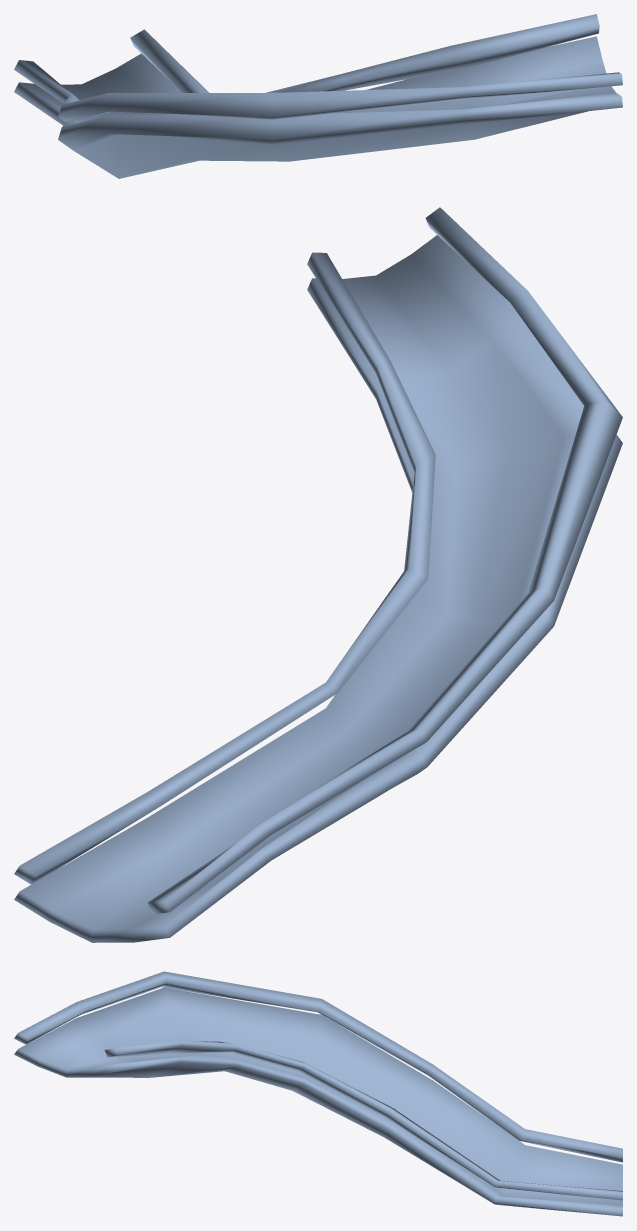
Rendered from junRoadShortSlope2p5_70.fbx.
3 renders of one model, top to bottom at view 1: azimuth 30°, elevation 25°; view 2: azimuth 150°, elevation 25°; view 3: azimuth 270°, elevation 25°, orthographic. The views are drawn at different scales.
Visible parts, largest first — view 1: junRoadShortSlope2p5_70_LOD0, junRoadShortSlope2p5_70_edge_LOD0; view 2: junRoadShortSlope2p5_70_LOD0, junRoadShortSlope2p5_70_edge_LOD0; view 3: junRoadShortSlope2p5_70_LOD0, junRoadShortSlope2p5_70_edge_LOD0.
Part boxes in pixels (x1=…): junRoadShortSlope2p5_70_LOD0: x1=14, y1=36, x2=622, y2=178; junRoadShortSlope2p5_70_edge_LOD0: x1=14, y1=14, x2=622, y2=122; junRoadShortSlope2p5_70_LOD0: x1=14, y1=235, x2=622, y2=942; junRoadShortSlope2p5_70_edge_LOD0: x1=14, y1=207, x2=622, y2=914; junRoadShortSlope2p5_70_LOD0: x1=14, y1=987, x2=622, y2=1216; junRoadShortSlope2p5_70_edge_LOD0: x1=14, y1=971, x2=622, y2=1200.
Bounding box in the file's own units: 825 × 676 × 1723.
